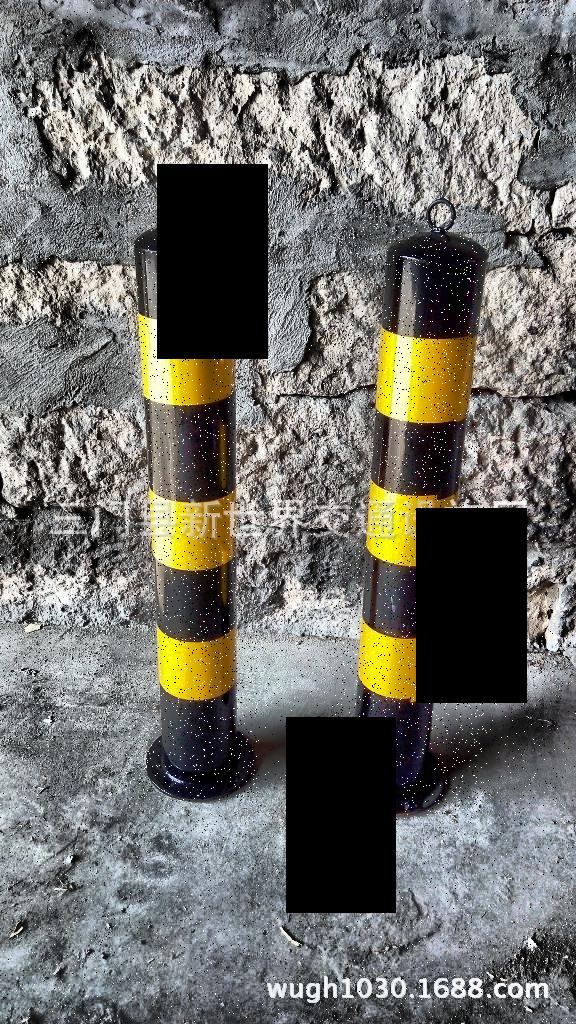bench: (330, 205, 485, 816), (125, 200, 258, 802)
